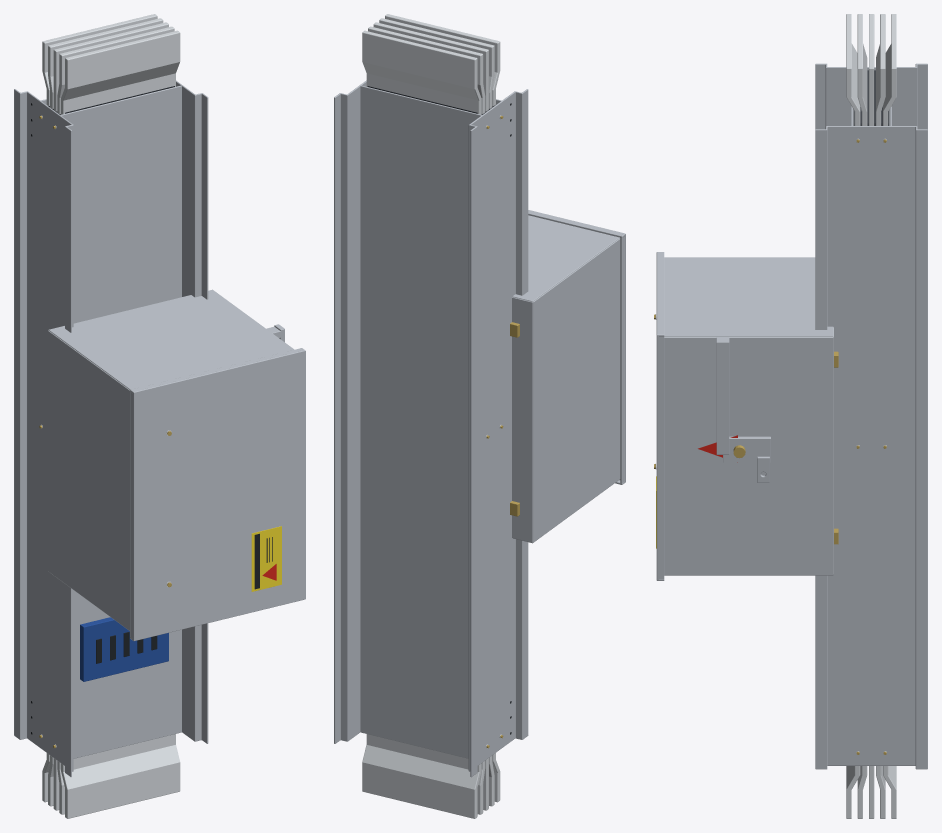
Rendered from tap-off-installed.glb.
The picture shows the model from 3 angles, left to right: view 1: azimuth 30°, elevation 25°; view 2: azimuth 150°, elevation 25°; view 3: azimuth 270°, elevation 25°; orthographic projection.
Visible parts, largest first — view 1: Lid sheet, Recessed side sheet, Continuous folded upper profile, Side sheet.001, End sheet.001, Continuous folded lower profile, Blade 1 plated spread terminal, Blade 1 plated spread terminal.001, Blue spare outlet, Yellow danger label, Blade 3 plated spread terminal.001, Blade 4 plated spread terminal.001 (+4 smaller); view 2: Recessed side sheet.001, Continuous folded upper profile, Side sheet.001, Continuous folded lower profile, Blade 5 plated spread terminal, Blade 5 plated spread terminal.001, Rear mounting panel, End sheet.001, Lid long return.001, Blade 4 plated spread terminal.001, Blade 1 plated spread terminal.001, Blade 3 plated spread terminal.001 (+2 smaller); view 3: Continuous folded lower profile, Side sheet, End sheet.001, Continuous folded upper profile, Long lever, Lid long return, Blade 1 plated spread terminal.001, Blade 5 plated spread terminal.001, Lid sheet, Pivot plate, Blade 2 plated spread terminal.001, Blade 4 plated spread terminal.001 (+2 smaller).
Part boxes in pixels (<box>): Lid sheet: <box>132,350,305,641</box>; Recessed side sheet: <box>60,85,181,758</box>; Continuous folded upper profile: <box>14,89,73,776</box>; Side sheet.001: <box>48,330,129,630</box>; End sheet.001: <box>48,289,294,389</box>; Continuous folded lower profile: <box>176,80,208,743</box>; Blade 1 plated spread terminal: <box>60,734,180,818</box>; Blade 1 plated spread terminal.001: <box>60,30,180,114</box>; Blue spare outlet: <box>80,617,168,681</box>; Yellow danger label: <box>251,526,281,591</box>; Blade 3 plated spread terminal.001: <box>53,22,168,111</box>; Blade 4 plated spread terminal.001: <box>48,18,163,108</box>; Recessed side sheet.001: <box>360,85,481,758</box>; Continuous folded upper profile: <box>468,89,528,777</box>; Side sheet.001: <box>532,238,620,542</box>; Continuous folded lower profile: <box>334,80,366,743</box>; Blade 5 plated spread terminal: <box>362,734,481,818</box>; Blade 5 plated spread terminal.001: <box>362,30,481,114</box>; Rear mounting panel: <box>512,297,532,542</box>; End sheet.001: <box>512,215,619,301</box>; Lid long return.001: <box>620,233,624,484</box>; Blade 4 plated spread terminal.001: <box>368,26,485,114</box>; Blade 1 plated spread terminal.001: <box>385,14,500,106</box>; Blade 3 plated spread terminal.001: <box>373,22,488,111</box>; Continuous folded lower profile: <box>815,126,927,769</box>; Side sheet: <box>664,337,833,575</box>; End sheet.001: <box>664,257,833,336</box>; Continuous folded upper profile: <box>815,63,927,129</box>; Long lever: <box>716,340,729,454</box>; Lid long return: <box>658,334,664,579</box>; Blade 1 plated spread terminal.001: <box>846,14,860,125</box>; Blade 5 plated spread terminal.001: <box>883,14,896,125</box>; Lid sheet: <box>656,252,658,580</box>; Pivot plate: <box>723,436,770,462</box>; Blade 2 plated spread terminal.001: <box>857,14,867,125</box>; Blade 4 plated spread terminal.001: <box>876,14,885,125</box>.
Size of the model in its own units: 0.2765 by 1.1 by 0.3648.
